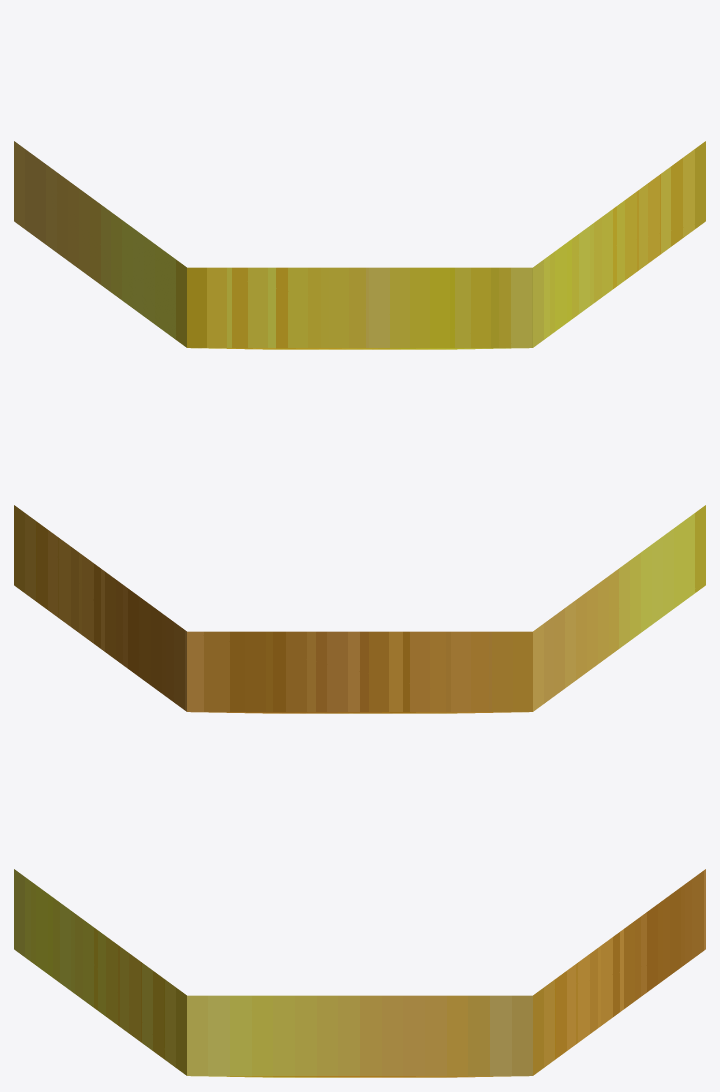
The picture shows the model from 3 angles, top to bottom: view 1: azimuth 30°, elevation 25°; view 2: azimuth 150°, elevation 25°; view 3: azimuth 270°, elevation 25°; orthographic projection.
Visible parts, largest first — view 1: model_Object82; view 2: model_Object82; view 3: model_Object82.
Boxes of the visible parts, <box> form: model_Object82: <box>14,141,705,349</box>; model_Object82: <box>14,505,705,713</box>; model_Object82: <box>14,869,705,1077</box>.
Bounding box in the file's own units: 0.5113 × 0.1376 × 0.5903.
Materials: 1 (1 with a texture image).
